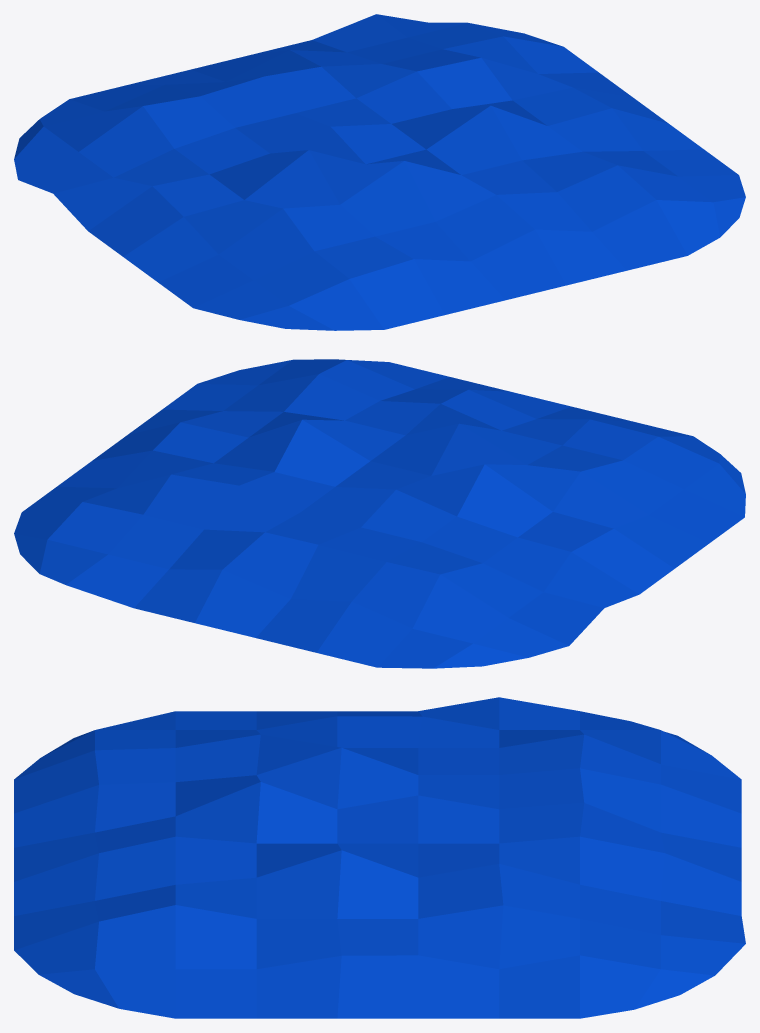
The model's file is rounded_water.fbx.
3 views of the same model, one above another, from view 1: azimuth 30°, elevation 25°; view 2: azimuth 150°, elevation 25°; view 3: azimuth 270°, elevation 25° (orthographic). The views are drawn at different scales.
Visible parts, largest first — view 1: Grid; view 2: Grid; view 3: Grid.
Part boxes in pixels (x1,y1,x2,y2): Grid: (14,14,745,330); Grid: (14,359,745,668); Grid: (14,697,745,1018).
Size of the model in its own units: 200 by 20.95 by 201.
